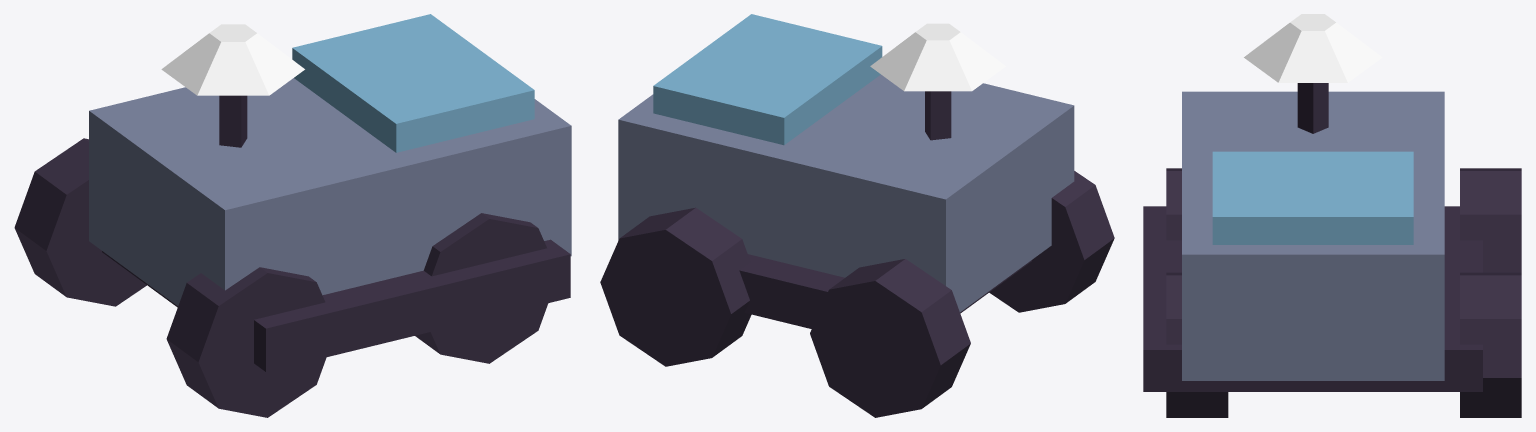
The model's file is moon-g0.glb.
The picture shows the model from 3 angles, left to right: view 1: azimuth 30°, elevation 25°; view 2: azimuth 150°, elevation 25°; view 3: azimuth 270°, elevation 25°; orthographic projection. The views are drawn at different scales.
Parts seen in each view (by area): view 1: moon-g0; view 2: moon-g0; view 3: moon-g0.
Part boxes in pixels (bbox=[...]): moon-g0: bbox=[14, 14, 571, 417]; moon-g0: bbox=[600, 14, 1114, 417]; moon-g0: bbox=[1143, 14, 1521, 417].
Bounding box in the file's own units: 0.55 × 0.44 × 0.49.
